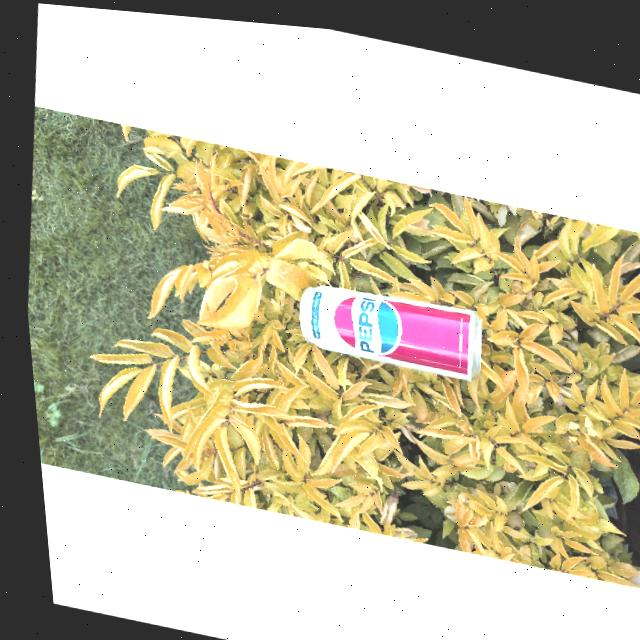Pepsi Retro: (285, 270, 479, 377)
